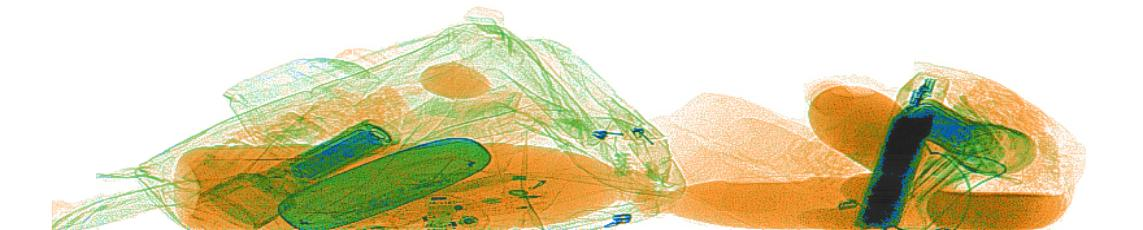battery: (291, 124, 389, 181), (910, 103, 972, 146)
